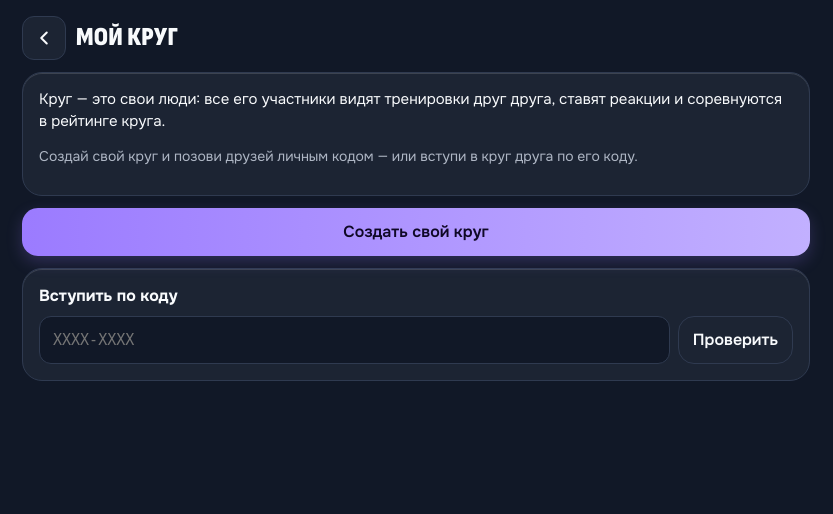
Test: CircleScreen › вступить по коду: проверить → превью → вступить
In the field labelled "Вступить по коду": (354, 340) [39,316,670,364], type "7f3q9xwd"
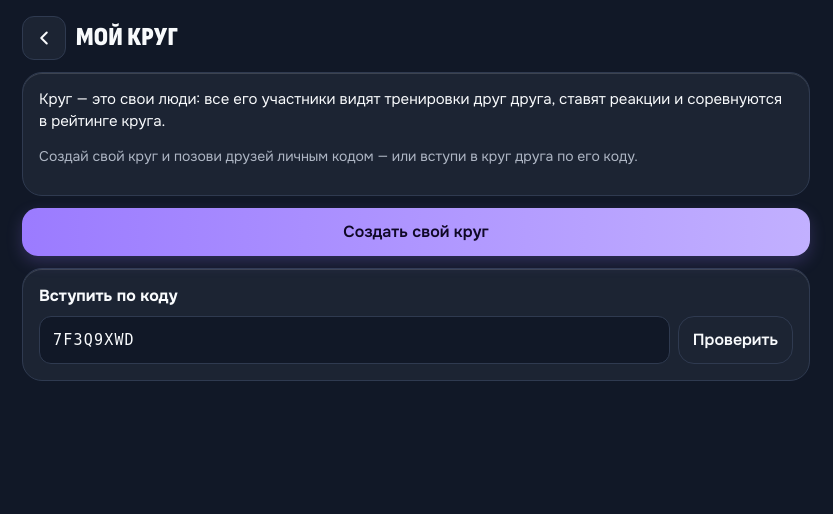
Click the button "Проверить": (735, 340) [678,316,793,364]
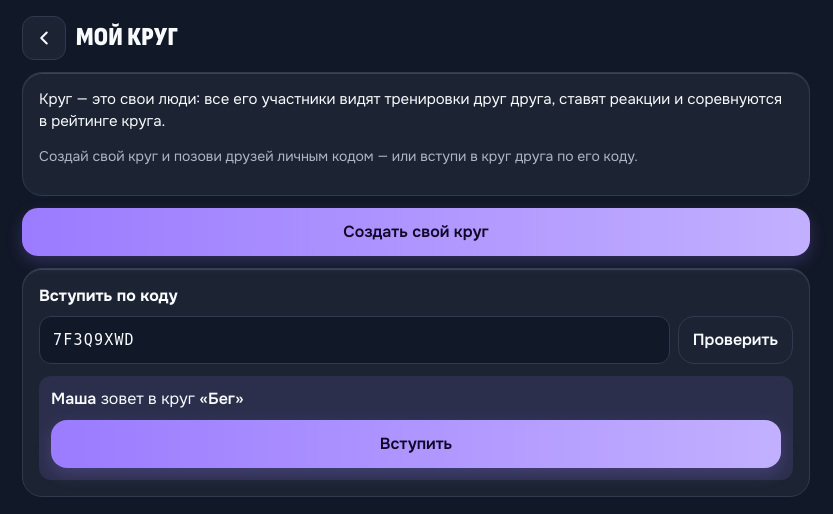
Now the text "Маша зовет в круг «Бег»" is shown, box [51,388,244,408]
Click the button "Вступить": (416, 444) [51,420,781,468]
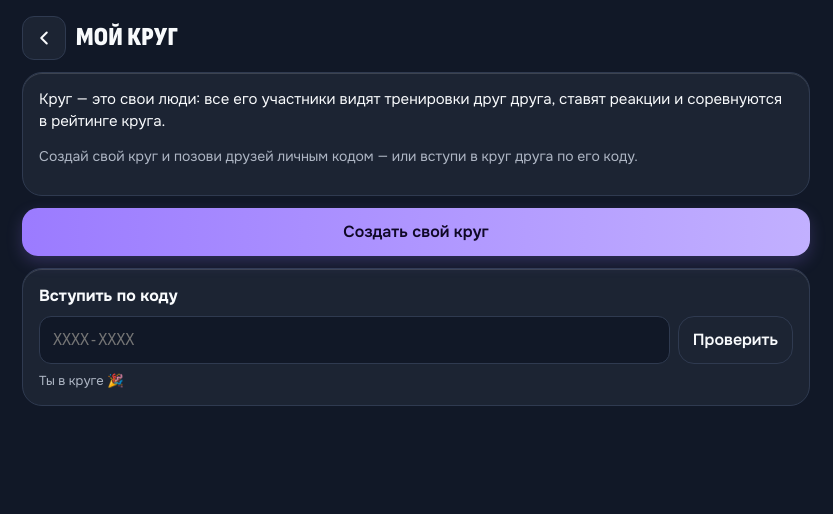
Now the text "Ты в круге 🎉" is shown, box [39,372,124,388]
